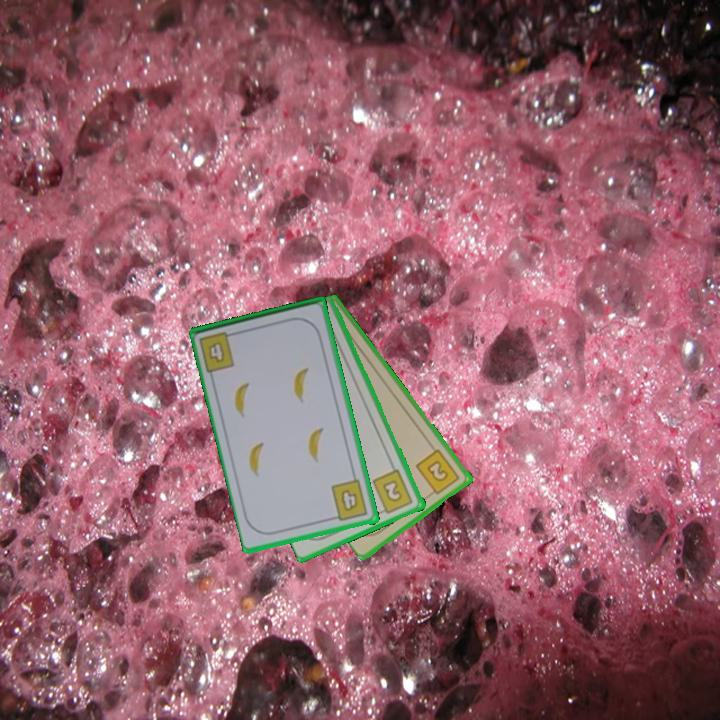2b: (413, 446, 463, 498), (369, 466, 416, 517)
4b: (328, 477, 371, 524), (205, 338, 228, 366)
